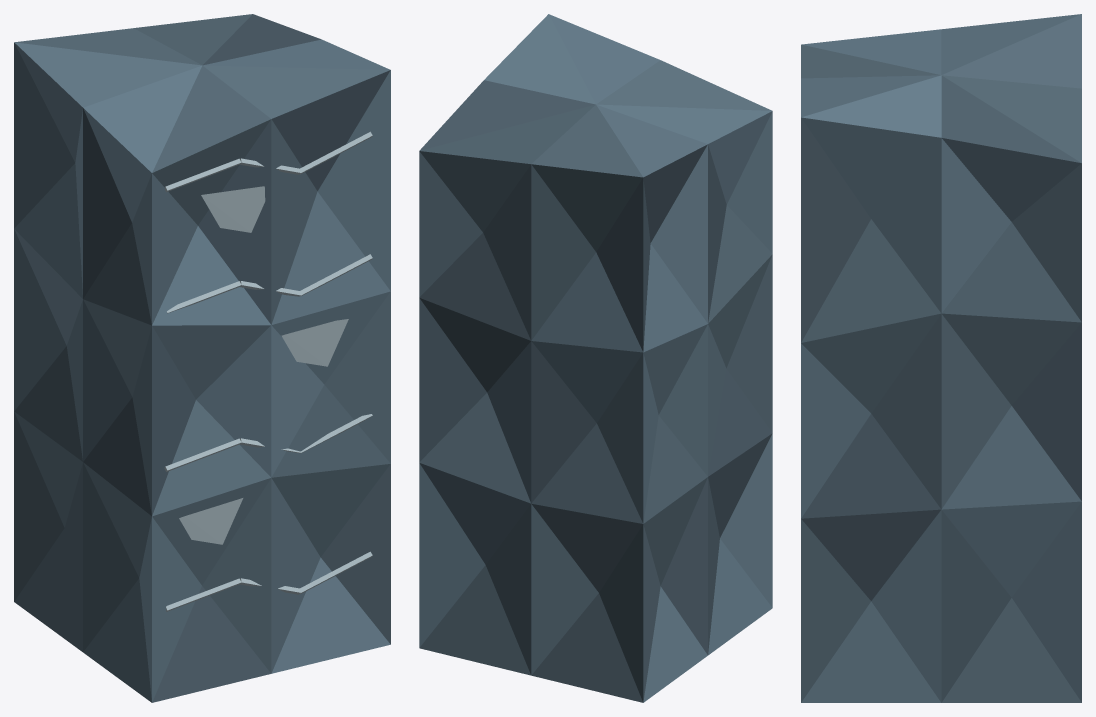
Rendered from frost_wall_a.glb.
The picture shows the model from 3 angles, left to right: view 1: azimuth 30°, elevation 25°; view 2: azimuth 150°, elevation 25°; view 3: azimuth 270°, elevation 25°; orthographic projection. The views are drawn at different scales.
Parts seen in each view (by area): view 1: geometry; view 2: geometry; view 3: geometry.
Boxes of the visible parts, x1,y1,x2,y2 form: geometry: (14,14,390,702); geometry: (419,14,772,702); geometry: (801,14,1081,702).
Size of the model in its own units: 1 by 2.3 by 1.
